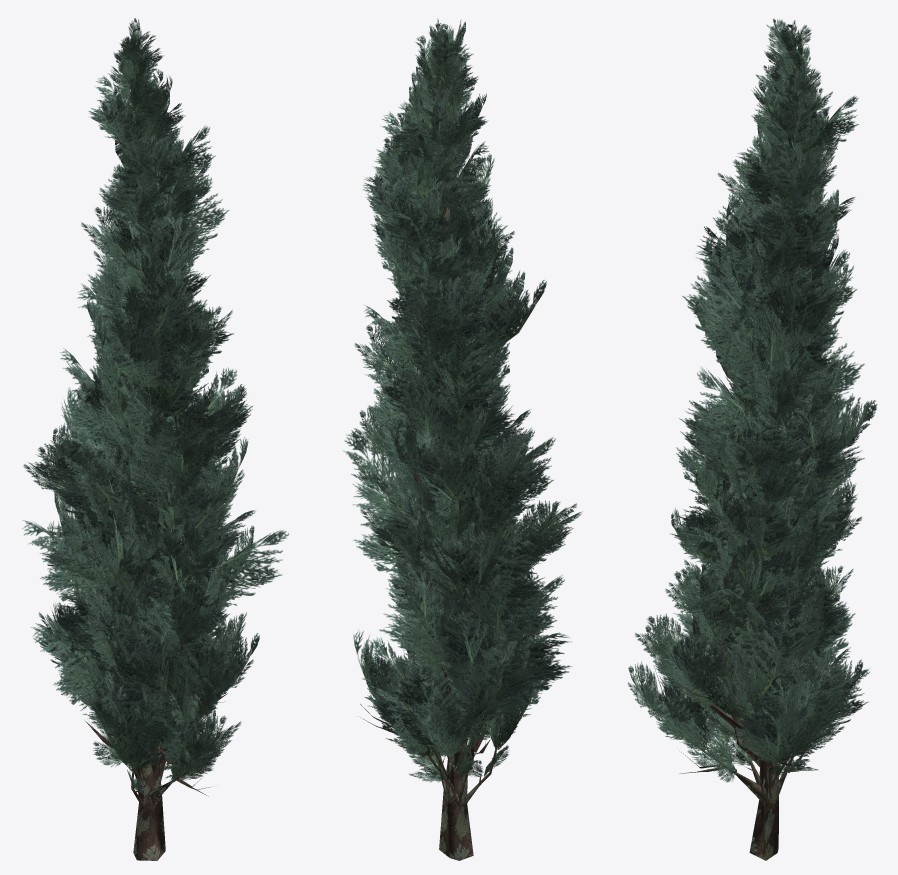
File: cypress.glb
3 renders of one model, left to right at view 1: azimuth 30°, elevation 25°; view 2: azimuth 150°, elevation 25°; view 3: azimuth 270°, elevation 25°, orthographic. The views are drawn at different scales.
Parts seen in each view (by area): view 1: Cypress_V2_test; view 2: Cypress_V2_test; view 3: Cypress_V2_test.
Boxes of the visible parts, left/top/right/bottom form: Cypress_V2_test: left=22, top=18, right=288, bottom=860; Cypress_V2_test: left=343, top=19, right=581, bottom=860; Cypress_V2_test: left=628, top=18, right=877, bottom=860.
Bounding box in the file's own units: 2.03 × 6.5 × 1.83.
3 materials, 2 textured.
